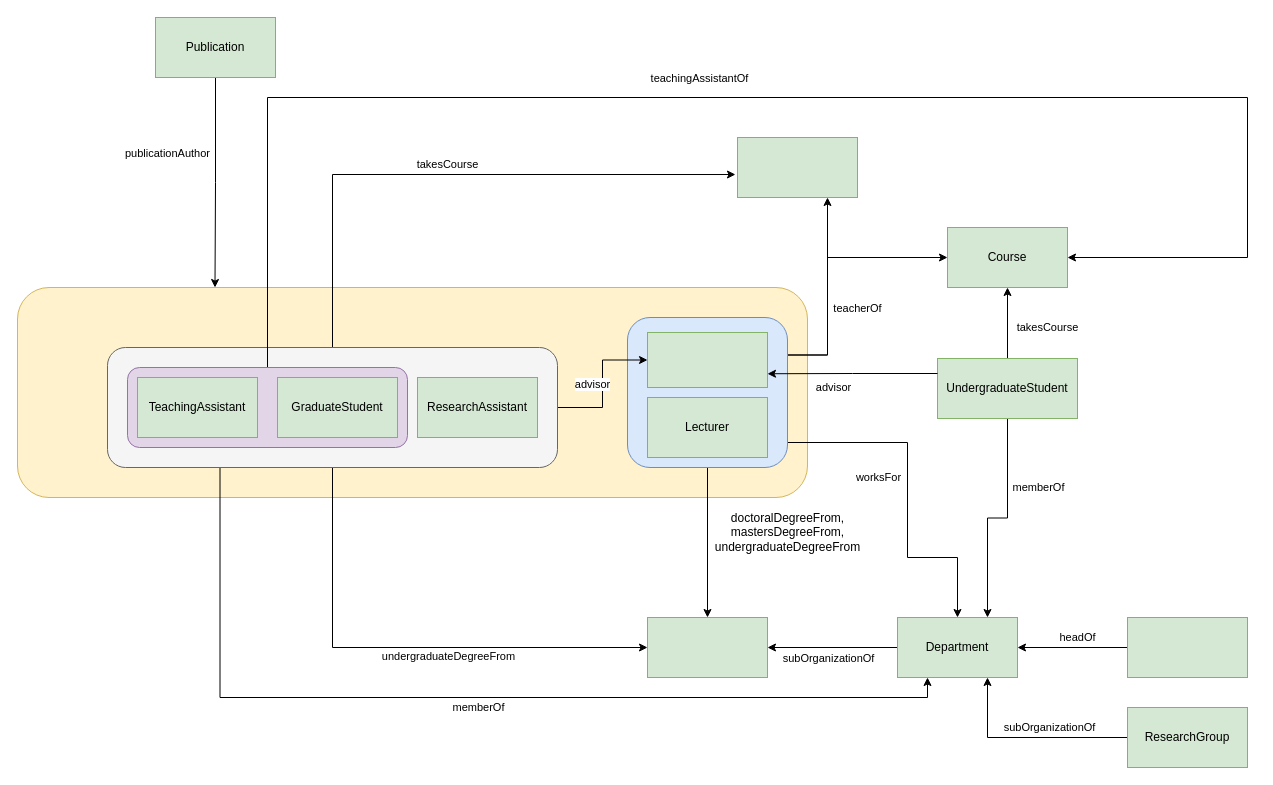
The diagram is 1273 pixels wide and 785 high, and some of its shapes have lost their labels. The shapes that lost their labels are listed below. From the top down, each one's centre as x and y in pixels, then its label:
At (x=797, y=167): "GraduateCourse".
At (x=707, y=360): "AssociateProfessor AssistantProfessor FullProfessor".
At (x=707, y=647): "University".
At (x=1187, y=647): "FullProfessor".
